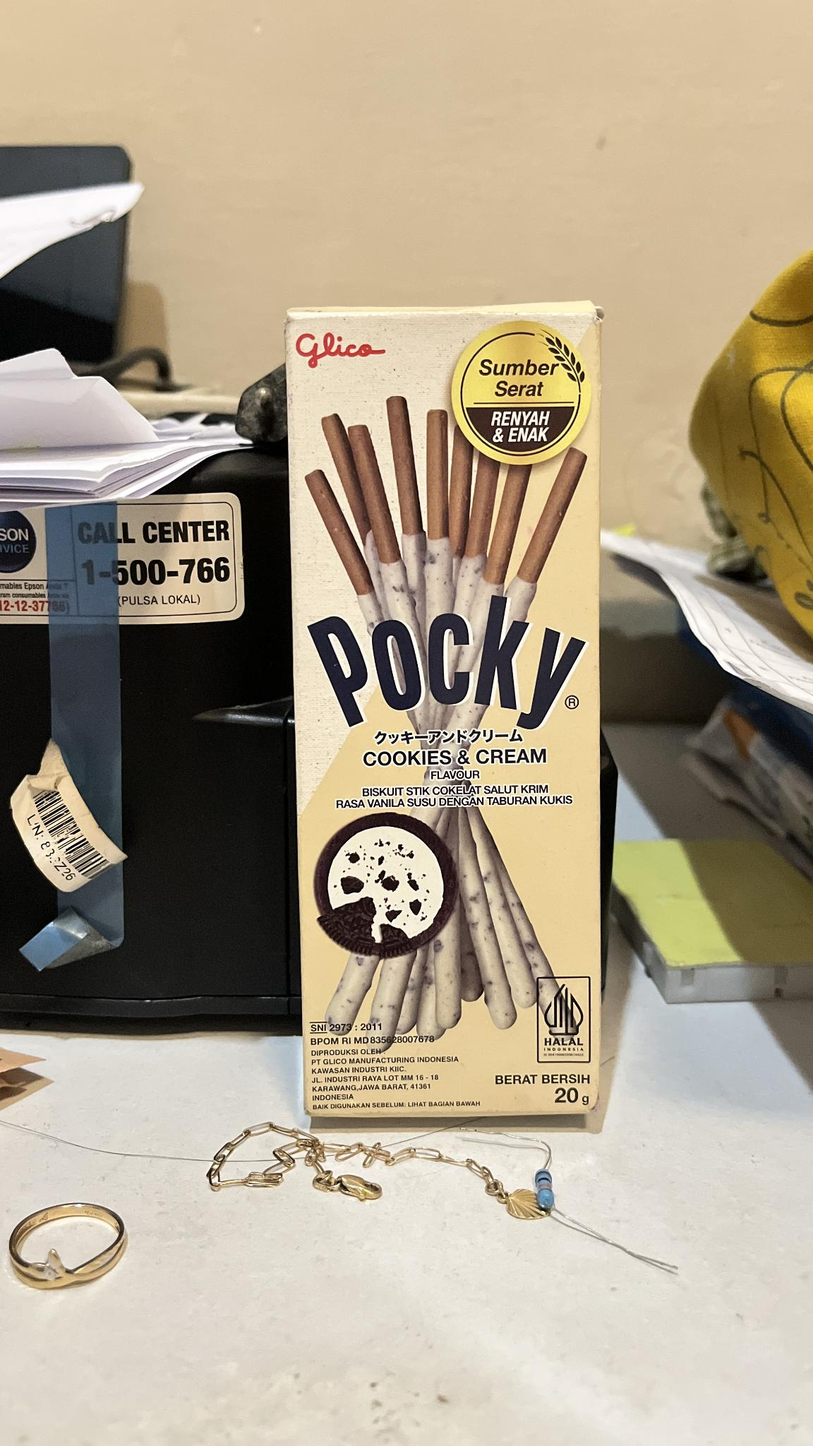Kertas: (283, 308, 602, 1123)
